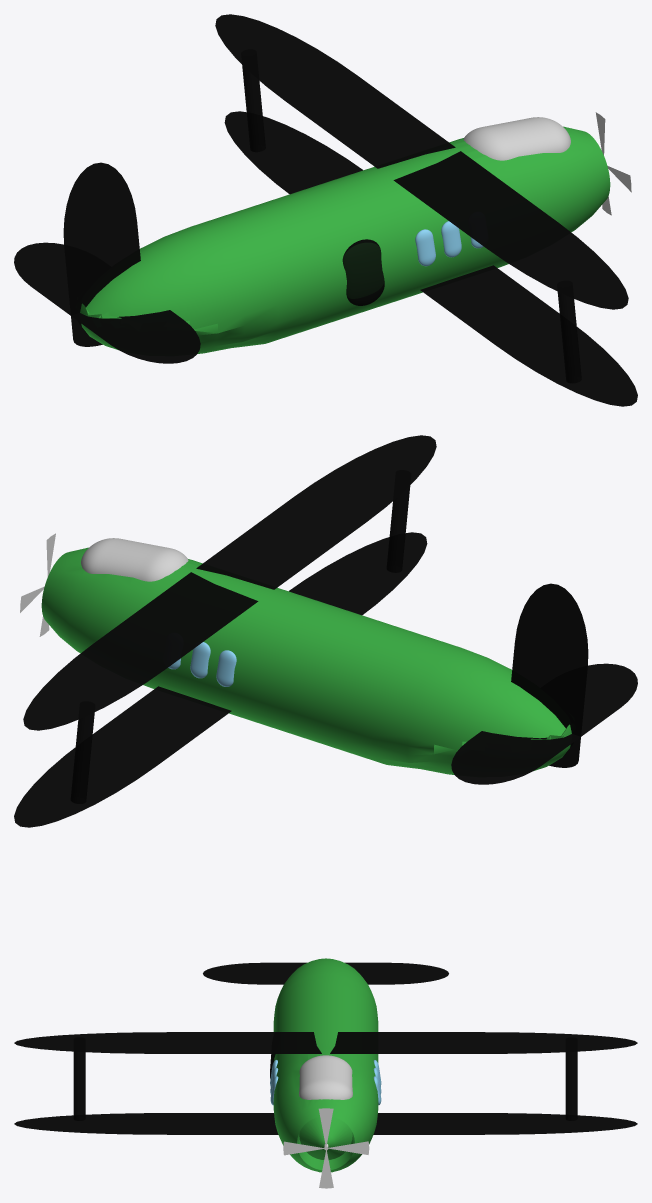
The model's file is airplane.fbx.
3 views of the same model, one above another, from view 1: azimuth 30°, elevation 25°; view 2: azimuth 150°, elevation 25°; view 3: azimuth 270°, elevation 25° (orthographic). The views are drawn at different scales.
Visible parts, largest first — view 1: Capsule_3, Capsule_1, Capsule_2_2, Capsule_4, Capsule_3_2, Capsule_10, Capsule_2, Cylinder, Cylinder_1, Capsule, Capsule_5; view 2: Capsule_3, Capsule_1, Capsule_2_2, Capsule_4, Capsule_3_2, Capsule_10, Cylinder_1, Cylinder, Capsule_7, Capsule_8; view 3: Capsule_3, Capsule_1, Capsule_2_2, Capsule_3_2, Capsule_10, Cylinder_1, Cylinder.
Part boxes in pixels (bbox=[...]): Capsule_3: bbox=[80, 126, 610, 353]; Capsule_1: bbox=[215, 14, 628, 309]; Capsule_2_2: bbox=[224, 111, 637, 406]; Capsule_4: bbox=[63, 162, 140, 346]; Capsule_3_2: bbox=[14, 242, 200, 363]; Capsule_10: bbox=[463, 117, 570, 160]; Capsule_2: bbox=[342, 239, 384, 305]; Cylinder: bbox=[557, 292, 581, 383]; Cylinder_1: bbox=[242, 65, 265, 152]; Capsule: bbox=[415, 229, 435, 266]; Capsule_5: bbox=[441, 221, 461, 257]; Capsule_3: bbox=[41, 547, 571, 774]; Capsule_1: bbox=[23, 435, 436, 730]; Capsule_2_2: bbox=[14, 532, 427, 827]; Capsule_4: bbox=[511, 583, 588, 767]; Capsule_3_2: bbox=[451, 663, 637, 784]; Capsule_10: bbox=[81, 538, 188, 581]; Cylinder_1: bbox=[70, 712, 94, 803]; Cylinder: bbox=[386, 485, 410, 572]; Capsule_7: bbox=[216, 650, 236, 686]; Capsule_8: bbox=[190, 642, 210, 678]; Capsule_3: bbox=[273, 958, 378, 1172]; Capsule_1: bbox=[14, 1032, 637, 1053]; Capsule_2_2: bbox=[14, 1113, 637, 1134]; Capsule_3_2: bbox=[203, 962, 448, 984]; Capsule_10: bbox=[299, 1055, 352, 1099]; Cylinder_1: bbox=[565, 1051, 577, 1120]; Cylinder: bbox=[73, 1051, 85, 1120].
Bounding box in the file's own units: 666 × 250 × 850.
